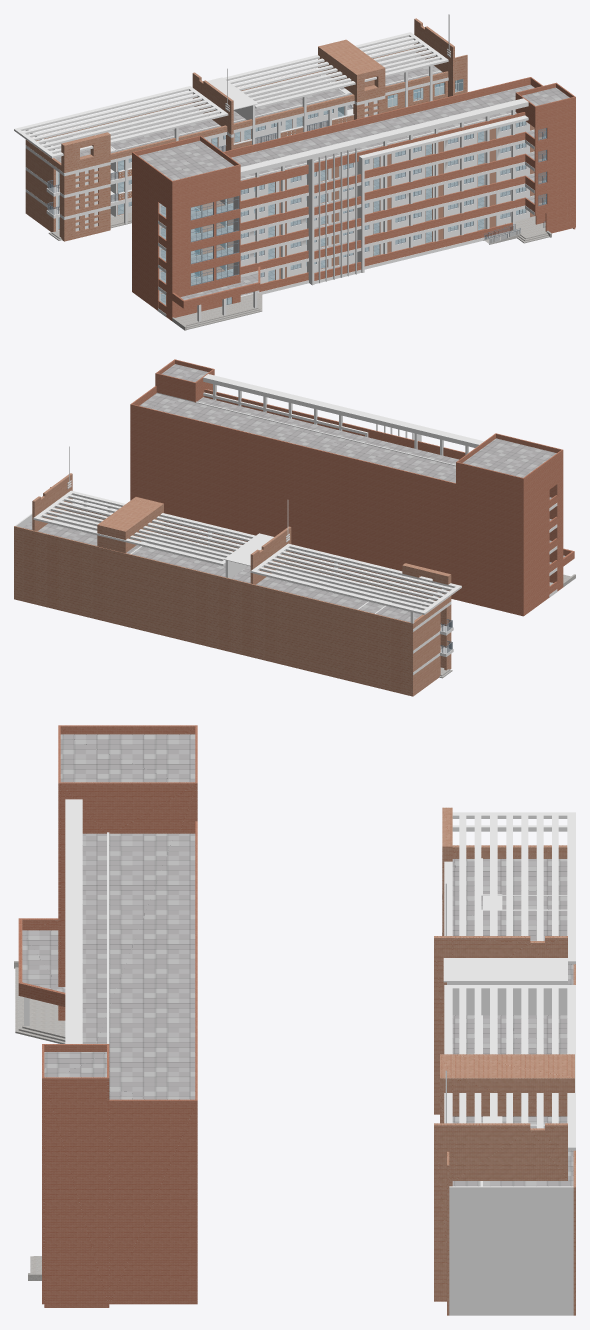
The model's file is teaching-2.glb.
3 renders of one model, top to bottom at view 1: azimuth 30°, elevation 25°; view 2: azimuth 150°, elevation 25°; view 3: azimuth 270°, elevation 25°, orthographic. The views are drawn at different scales.
Visible parts, largest first — view 1: Teaching_2; view 2: Teaching_2; view 3: Teaching_2.
Boxes of the visible parts, x1,y1,x2,y2 form: Teaching_2: (14, 14, 575, 330); Teaching_2: (14, 359, 575, 696); Teaching_2: (14, 725, 575, 1315).
Bounding box in the file's own units: 56.38 × 18.35 × 38.06.
8 materials, 4 textured.
